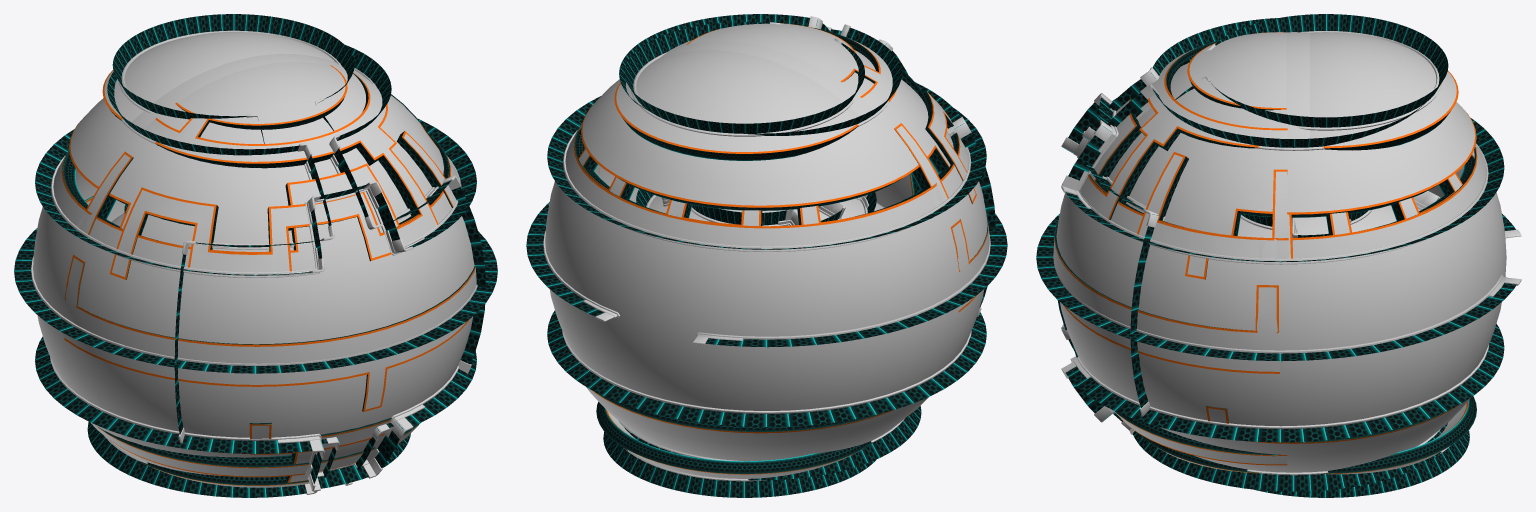
3 renders of one model, left to right at view 1: azimuth 30°, elevation 25°; view 2: azimuth 150°, elevation 25°; view 3: azimuth 270°, elevation 25°, orthographic.
Parts seen in each view (by area): view 1: Sc04_05_platform, Sc04_03, Sc02_04_platform, Sc04_05, Sc04_03_platform01, Sc04_04, Sc04_02_platform, Sc04_02_walls; view 2: Sc04_05_platform, Sc02_04_platform, Sc04_02_platform, Sc04_05, Sc04_03, Sc04_02_walls, Sc04_04, Sc04_01_walls, Sc04_03_platform01, Sc04_01_platform; view 3: Sc04_05_platform, Sc02_04_platform, Sc04_05, Sc04_03, Sc04_02_platform, Sc04_04, Sc04_02_walls, Sc04_03_platform01, Sc04_01_platform, Sc04_01_walls.
Boxes of the visible parts, box(x1,y1,x2,y2) form: Sc04_05_platform: box(33, 133, 474, 482); Sc04_03: box(63, 61, 457, 487); Sc02_04_platform: box(69, 53, 443, 475); Sc04_05: box(14, 118, 497, 491); Sc04_03_platform01: box(63, 196, 476, 411); Sc04_04: box(87, 30, 485, 497); Sc04_02_platform: box(90, 32, 334, 436); Sc04_02_walls: box(112, 14, 354, 143); Sc04_05_platform: box(545, 123, 987, 410); Sc02_04_platform: box(581, 40, 953, 461); Sc04_02_platform: box(596, 50, 920, 478); Sc04_05: box(526, 27, 1007, 426); Sc04_03: box(577, 23, 976, 416); Sc04_02_walls: box(603, 22, 876, 497); Sc04_04: box(618, 14, 995, 480); Sc04_01_walls: box(636, 189, 876, 226); Sc04_03_platform01: box(594, 164, 989, 312); Sc04_01_platform: box(649, 196, 884, 225); Sc04_05_platform: box(1056, 99, 1506, 442); Sc02_04_platform: box(1109, 32, 1476, 472); Sc04_05: box(1036, 93, 1521, 442); Sc04_03: box(1073, 32, 1474, 473); Sc04_02_platform: box(1310, 32, 1476, 474); Sc04_04: box(1070, 18, 1447, 491); Sc04_02_walls: box(1175, 14, 1469, 497); Sc04_03_platform01: box(1053, 185, 1443, 373); Sc04_01_platform: box(1237, 205, 1420, 237); Sc04_01_walls: box(1240, 191, 1440, 237).
Size of the model in its own units: 219 by 202 by 217.
Materials: 3 (1 with a texture image).
